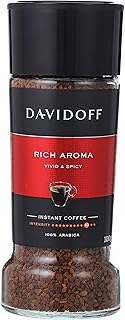Coffee: (2, 1, 121, 320)
